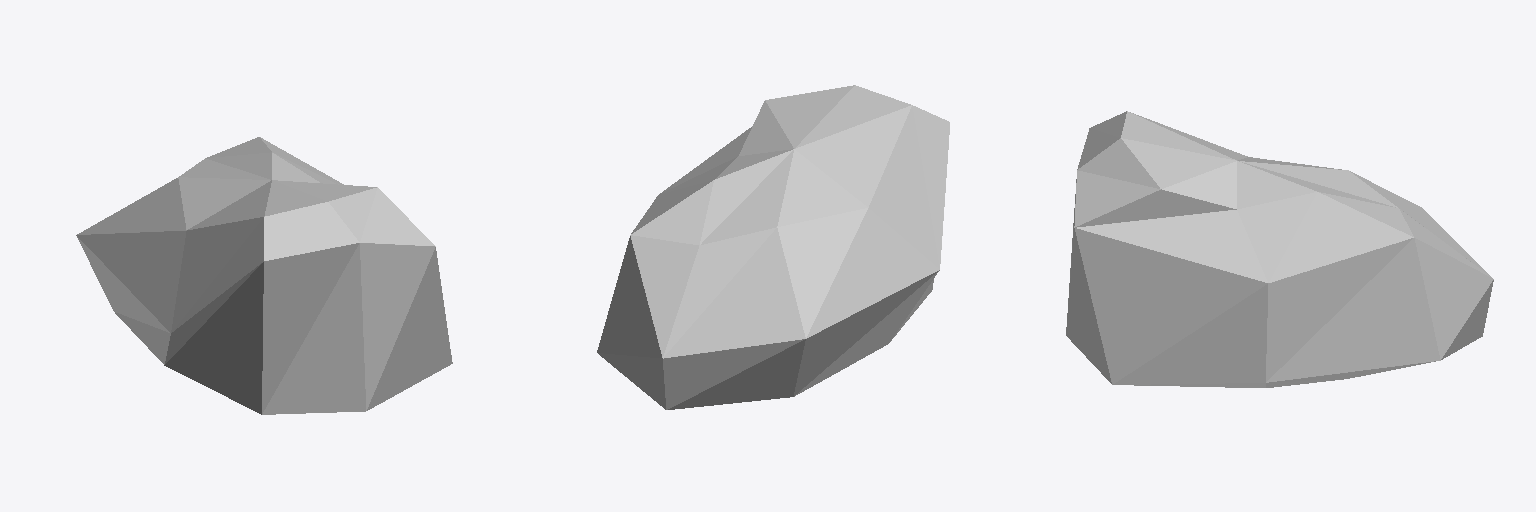
The model's file is SmallRock05_collider.obj.
3 views of the same model, side by side, from view 1: azimuth 30°, elevation 25°; view 2: azimuth 150°, elevation 25°; view 3: azimuth 270°, elevation 25° (orthographic).
Parts seen in each view (by area): view 1: SmallRock05_collider SmallRock05 SmallRocks; view 2: SmallRock05_collider SmallRock05 SmallRocks; view 3: SmallRock05_collider SmallRock05 SmallRocks.
Boxes of the visible parts, <box> form: SmallRock05_collider SmallRock05 SmallRocks: <box>76,137,452,414</box>; SmallRock05_collider SmallRock05 SmallRocks: <box>597,85,949,409</box>; SmallRock05_collider SmallRock05 SmallRocks: <box>1066,111,1493,387</box>.
Size of the model in its own units: 800 by 681 by 1154.